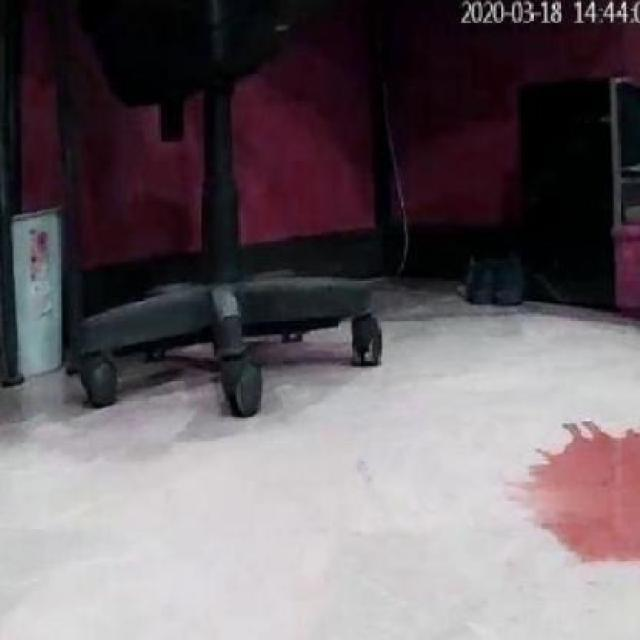spillage: (528, 423, 640, 563)
